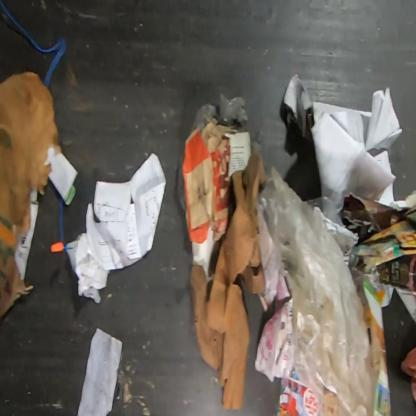cardboard: (190, 151, 264, 411), (0, 70, 63, 320), (336, 180, 415, 275), (181, 118, 240, 245)
soft_plastic: (257, 166, 370, 415), (190, 93, 263, 157)
